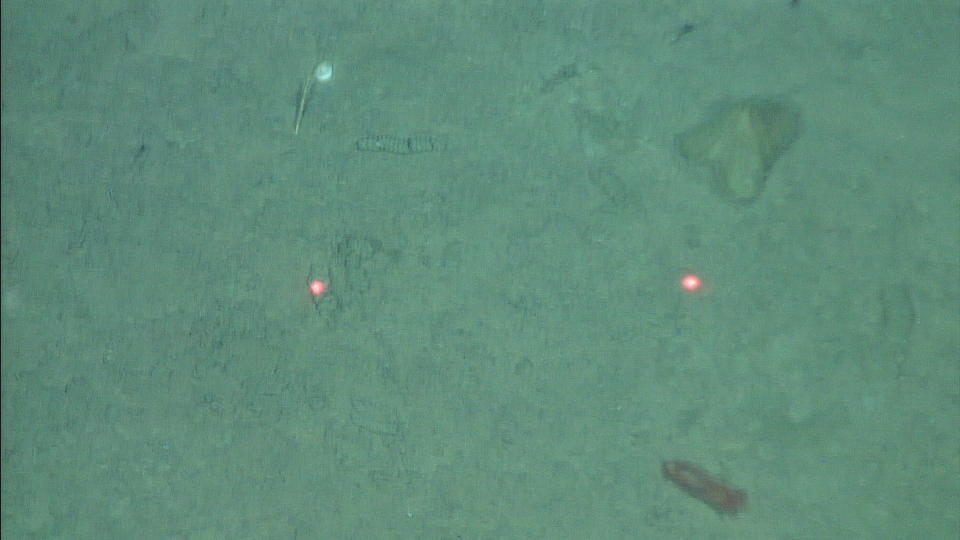ECHINOCREPIS: (673, 95, 800, 204)
PENIAGONE_SP_A: (662, 456, 749, 520)
